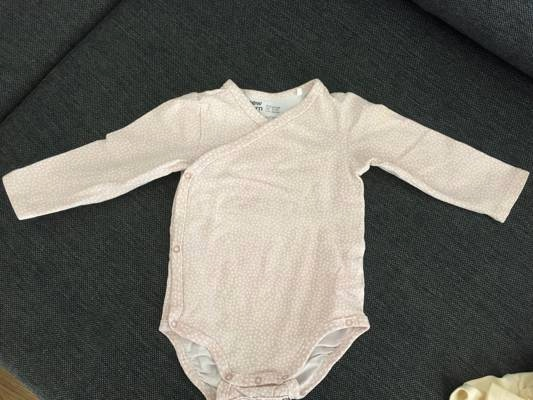Body: (8, 78, 525, 398)
